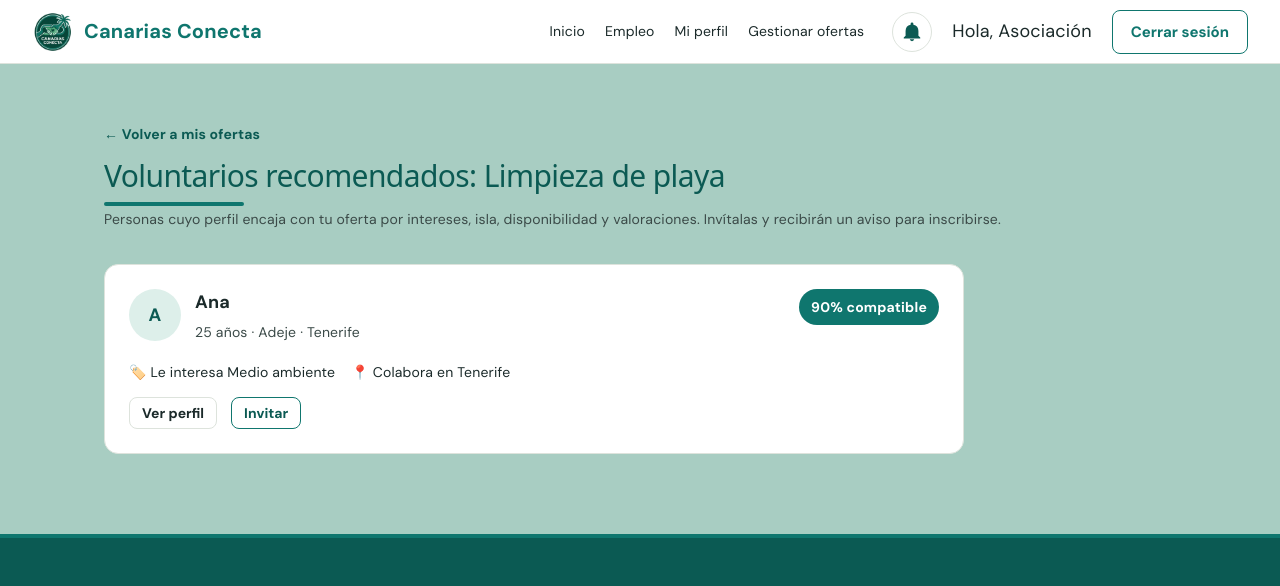
Test case: VoluntariosRecomendados › envía la invitación con el mensaje y la marca como enviada
The width and height of the screenshot is (1280, 586).
Click the button "Invitar".
click(266, 413)  # box [231,397,301,429]
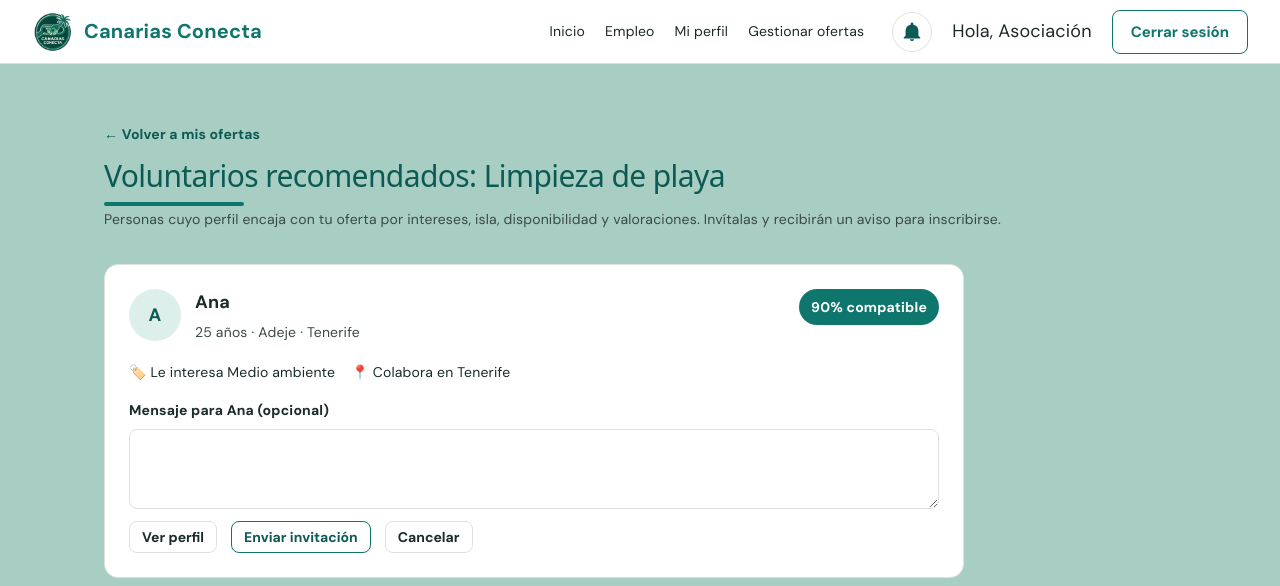
Type "Te esperamos" into the text box labelled "Mensaje para Ana (opcional)".
click(534, 469); type("Te esperamos")  # box [129,429,939,509]
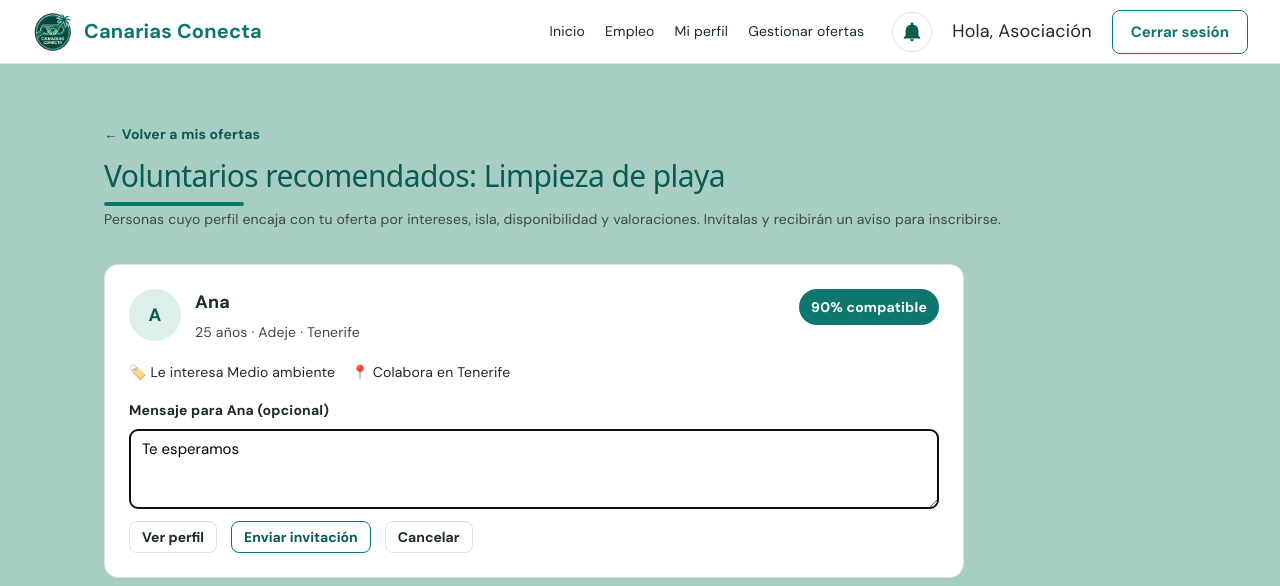
Click the button "Enviar invitación".
click(301, 537)  # box [231,521,371,553]
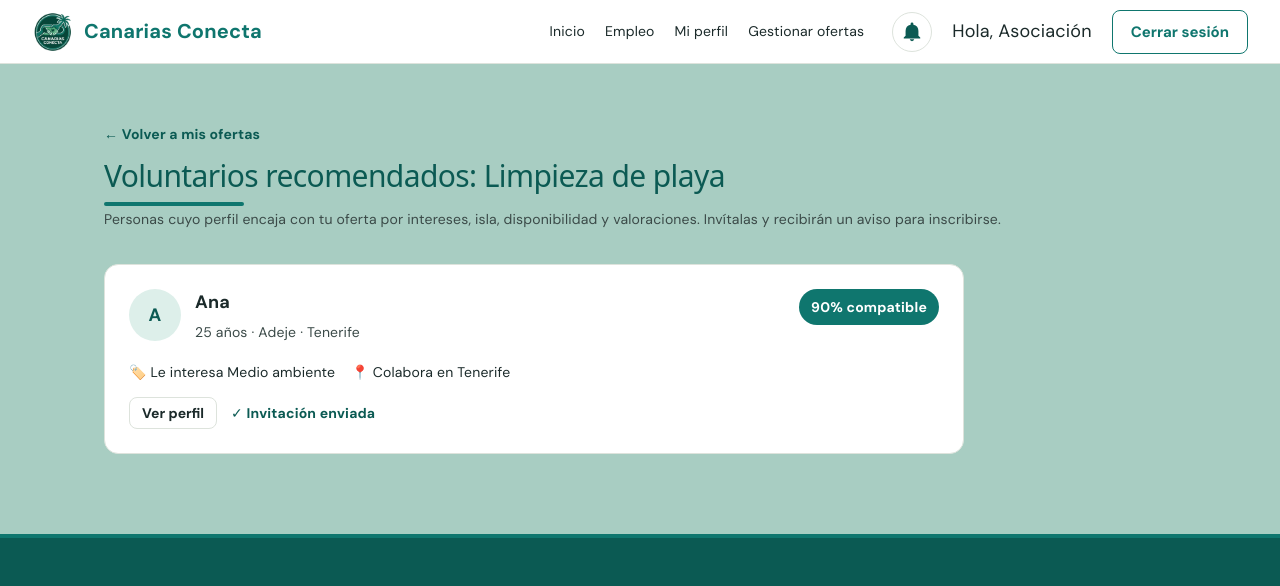
Result: the text "✓ Invitación enviada" is shown at [231,400,375,426]
